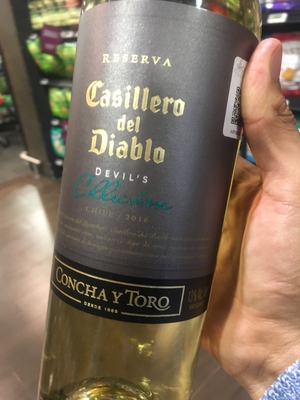casillero del diablo devils collection verde: (45, 1, 256, 400)
